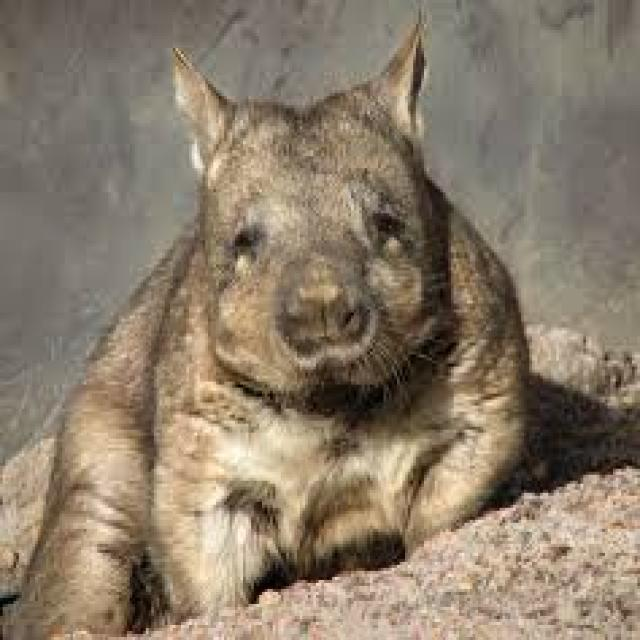Wombat: (44, 14, 516, 614)
